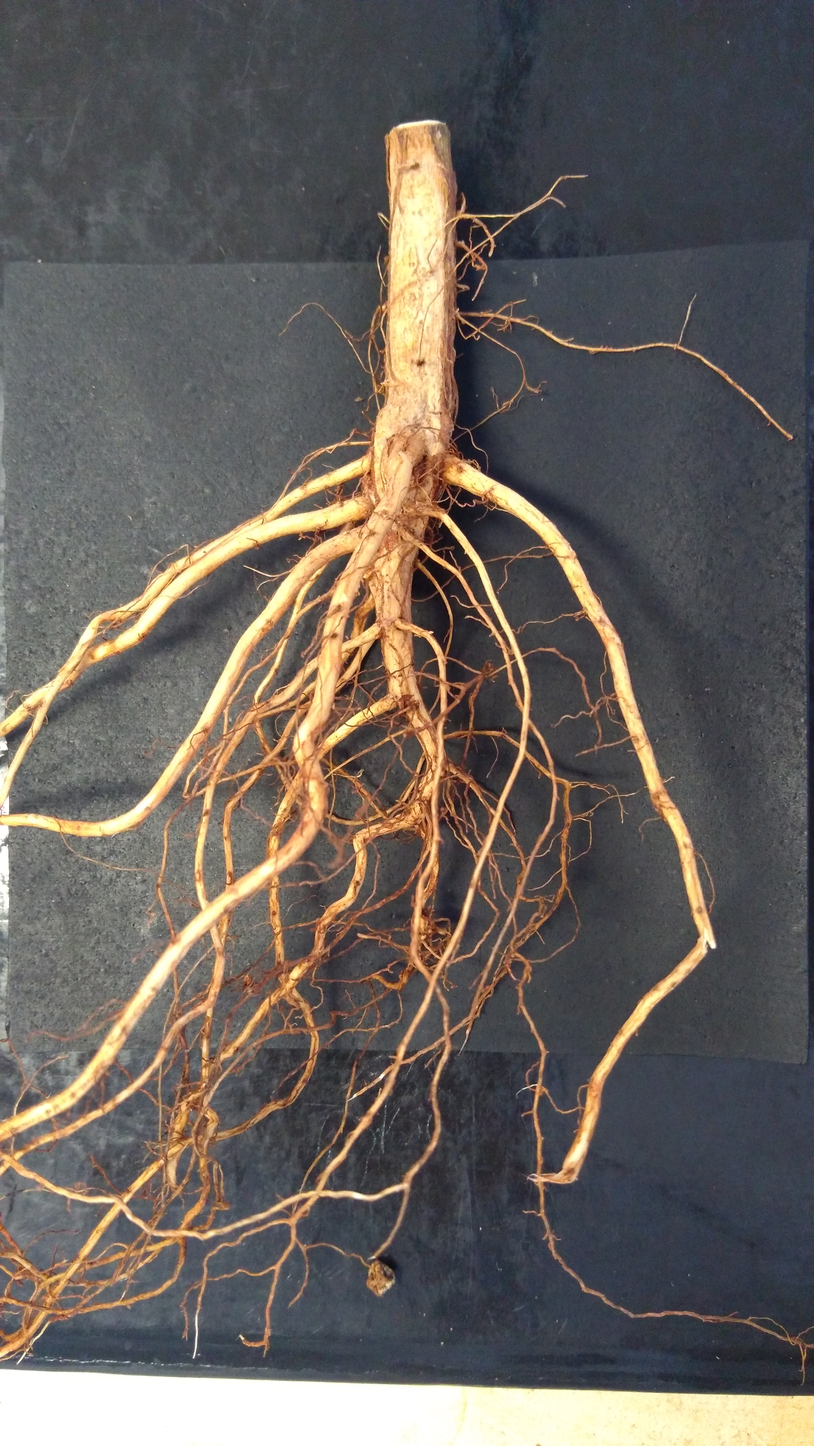nodule: (365, 1258, 396, 1296), (409, 912, 436, 940), (398, 517, 424, 542), (383, 529, 402, 553), (186, 1090, 207, 1110), (243, 972, 257, 993), (481, 661, 497, 678), (361, 473, 371, 494), (214, 1200, 230, 1212), (534, 1084, 545, 1096), (380, 302, 389, 314), (376, 384, 385, 394), (383, 255, 390, 267), (398, 969, 404, 980), (573, 614, 580, 622), (440, 806, 446, 814), (254, 543, 260, 550), (380, 349, 386, 355), (285, 558, 291, 564)
